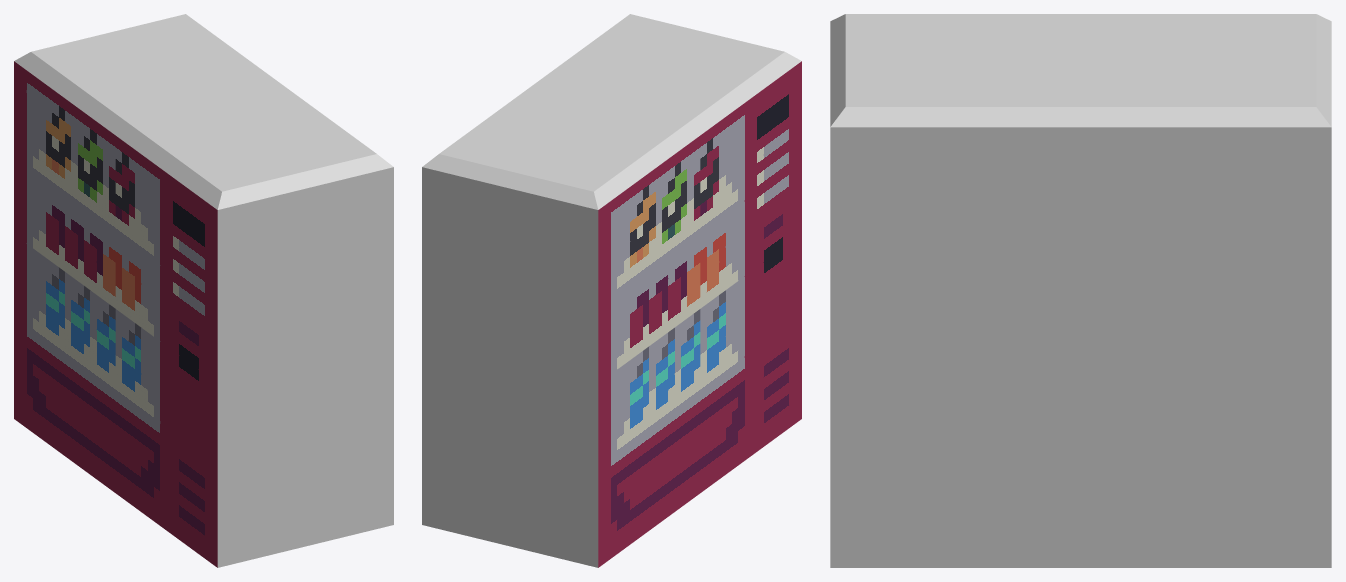
Rendered from Maquina Vermelha.fbx.
The picture shows the model from 3 angles, left to right: view 1: azimuth 30°, elevation 25°; view 2: azimuth 150°, elevation 25°; view 3: azimuth 270°, elevation 25°; orthographic projection. The views are drawn at different scales.
Parts seen in each view (by area): view 1: Cube; view 2: Cube; view 3: Cube.
Part boxes in pixels (x1,y1,x2,y2): Cube: (14, 14, 393, 567); Cube: (422, 14, 801, 567); Cube: (830, 14, 1331, 567).
Bounding box in the file's own units: 50 × 100 × 100.
